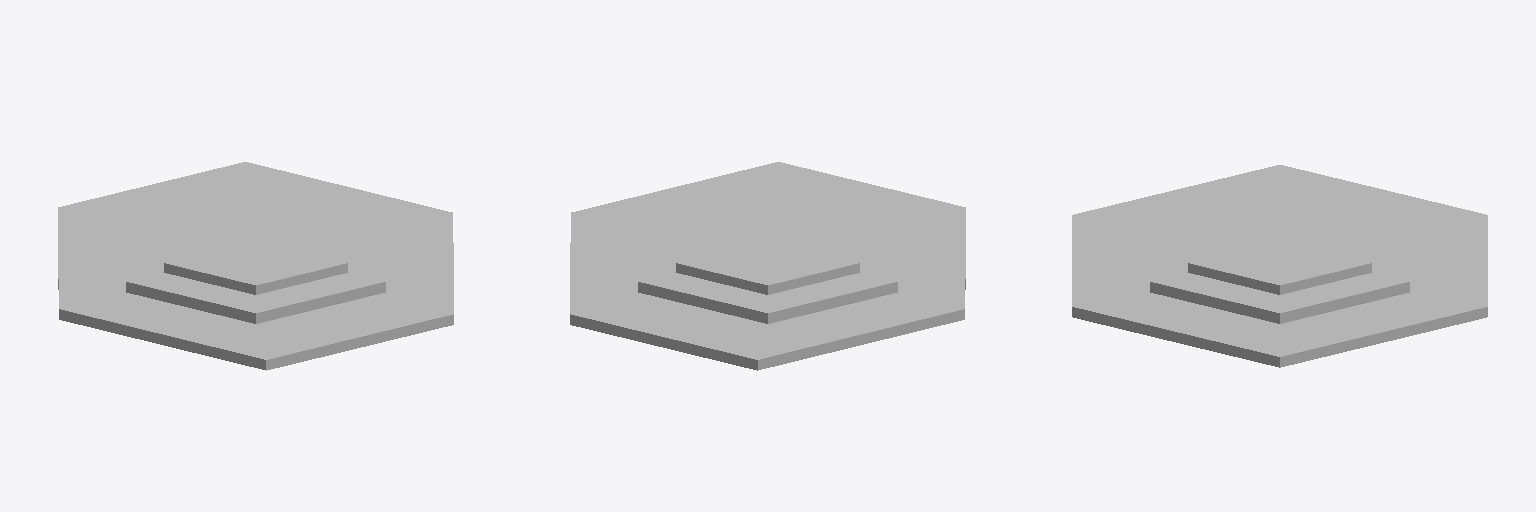
The picture shows the model from 3 angles: view 1: azimuth 30°, elevation 25°; view 2: azimuth 150°, elevation 25°; view 3: azimuth 270°, elevation 25°; orthographic projection.
Parts seen in each view (by area): view 1: pasted__base group1; view 2: pasted__base group1; view 3: pasted__base group1.
Part boxes in pixels (x1,y1,x2,y2): pasted__base group1: (58, 162, 453, 370); pasted__base group1: (570, 162, 965, 370); pasted__base group1: (1072, 165, 1487, 367).
Size of the model in its own units: 104 by 7.79 by 94.91.